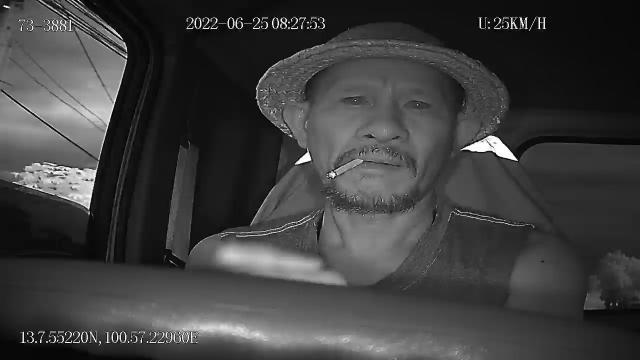SafeDriving: (397, 89, 438, 116), (335, 86, 375, 110)
Smoking: (326, 154, 364, 182)
